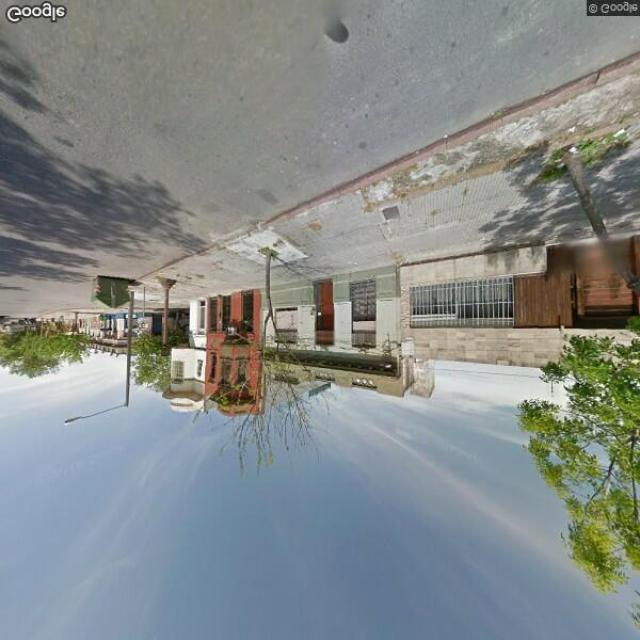garbage container: (84, 269, 137, 316)
